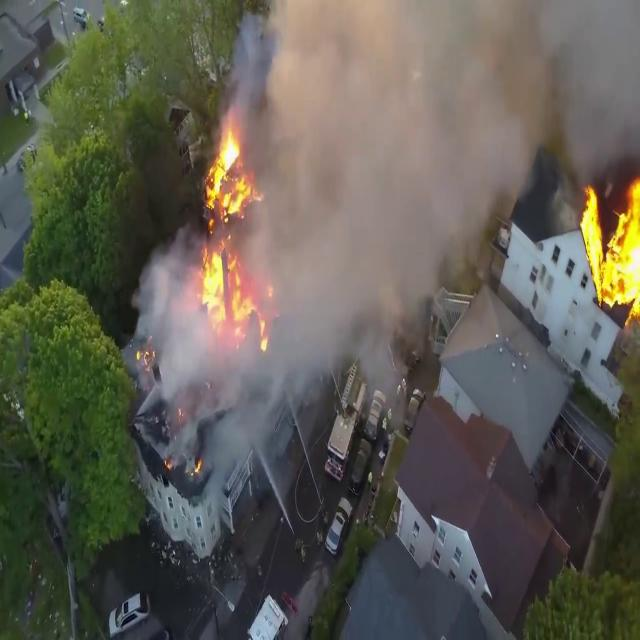Fire: (189, 123, 267, 352), (577, 159, 640, 322)
Smoke: (234, 0, 638, 401), (133, 229, 225, 415)
